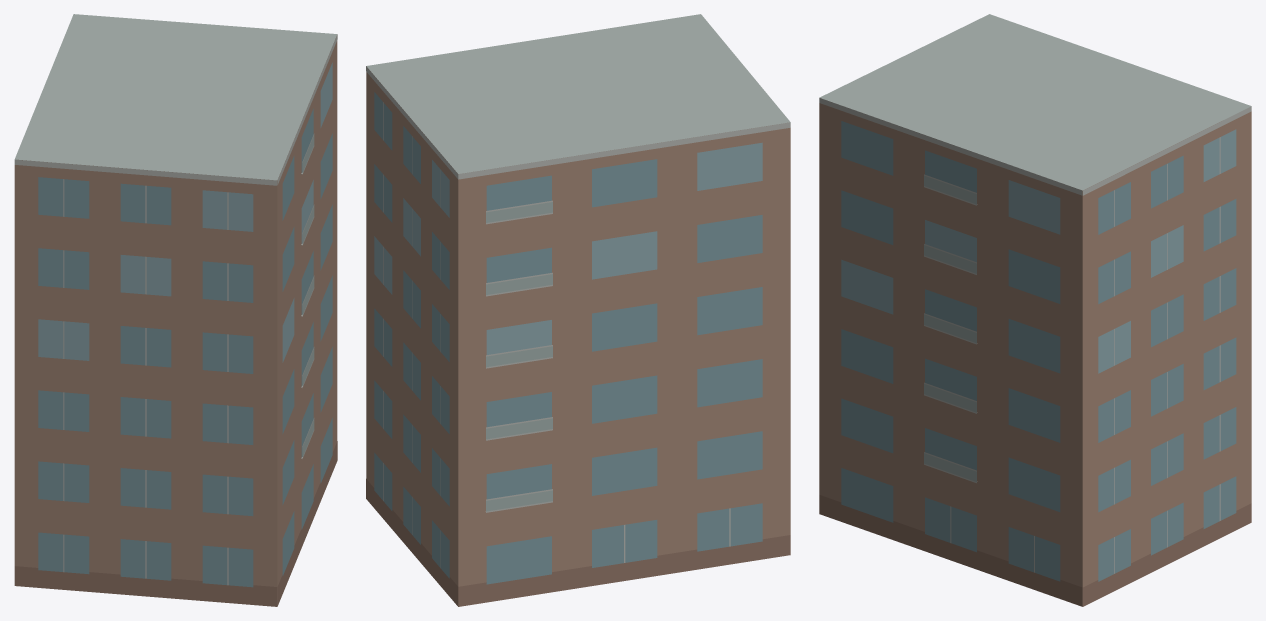
File: survey-upis-32893370.glb
The picture shows the model from 3 angles, left to right: view 1: azimuth 30°, elevation 25°; view 2: azimuth 150°, elevation 25°; view 3: azimuth 270°, elevation 25°; orthographic projection. The views are drawn at different scales.
Parts seen in each view (by area): view 1: survey-upis-32893370.tmp; view 2: survey-upis-32893370.tmp; view 3: survey-upis-32893370.tmp.
Part boxes in pixels (x1,y1,x2,y2): survey-upis-32893370.tmp: (14,14,337,606); survey-upis-32893370.tmp: (366,14,790,606); survey-upis-32893370.tmp: (819,14,1251,606).
Size of the model in its own units: 17.65 by 19.4 by 18.27.
